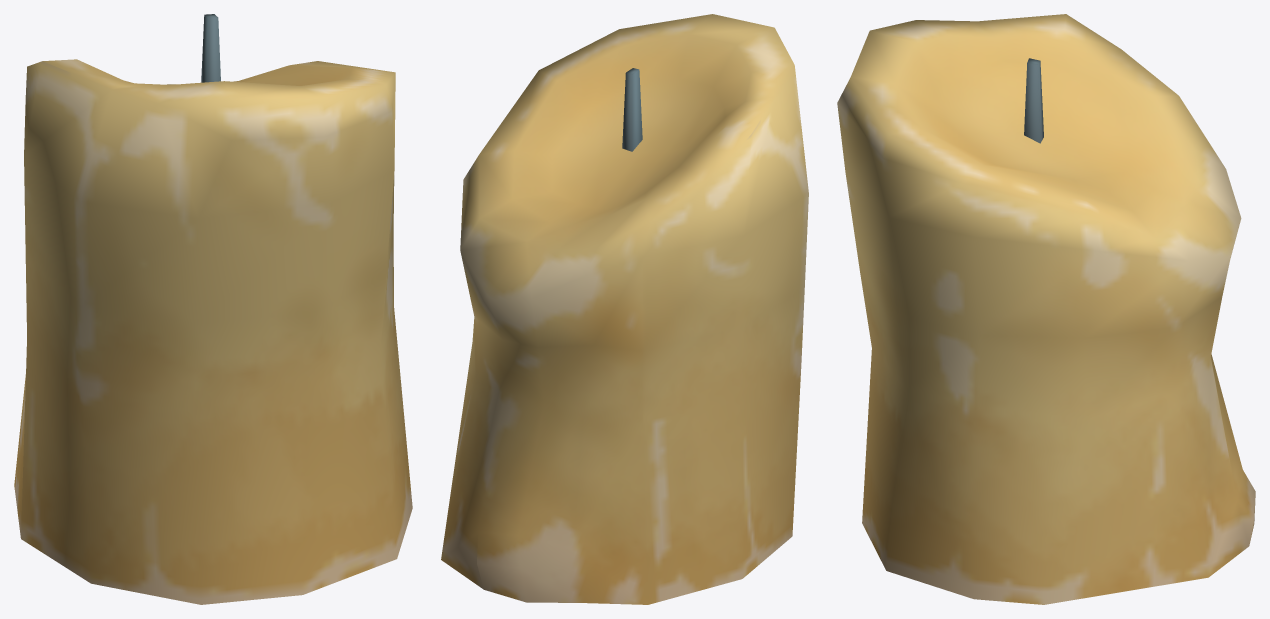
The model's file is Candle 1.glb.
3 renders of one model, left to right at view 1: azimuth 30°, elevation 25°; view 2: azimuth 150°, elevation 25°; view 3: azimuth 270°, elevation 25°, orthographic. The views are drawn at different scales.
Visible parts, largest first — view 1: Candle_1; view 2: Candle_1; view 3: Candle_1.
Boxes of the visible parts, x1=… form: Candle_1: x1=14, y1=14, x2=412, y2=604; Candle_1: x1=441, y1=14, x2=808, y2=604; Candle_1: x1=837, y1=14, x2=1255, y2=604.
Size of the model in its own units: 0.0939 by 0.132 by 0.1079.
1 material, 1 textured.
